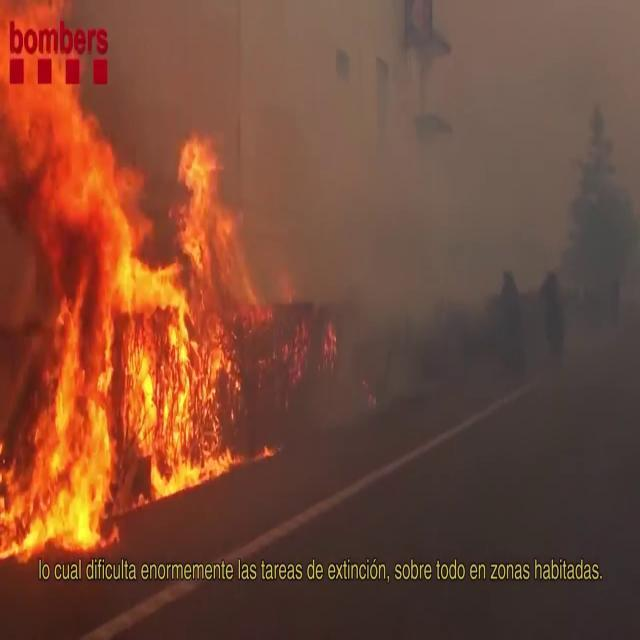Fire: (0, 77, 260, 556)
